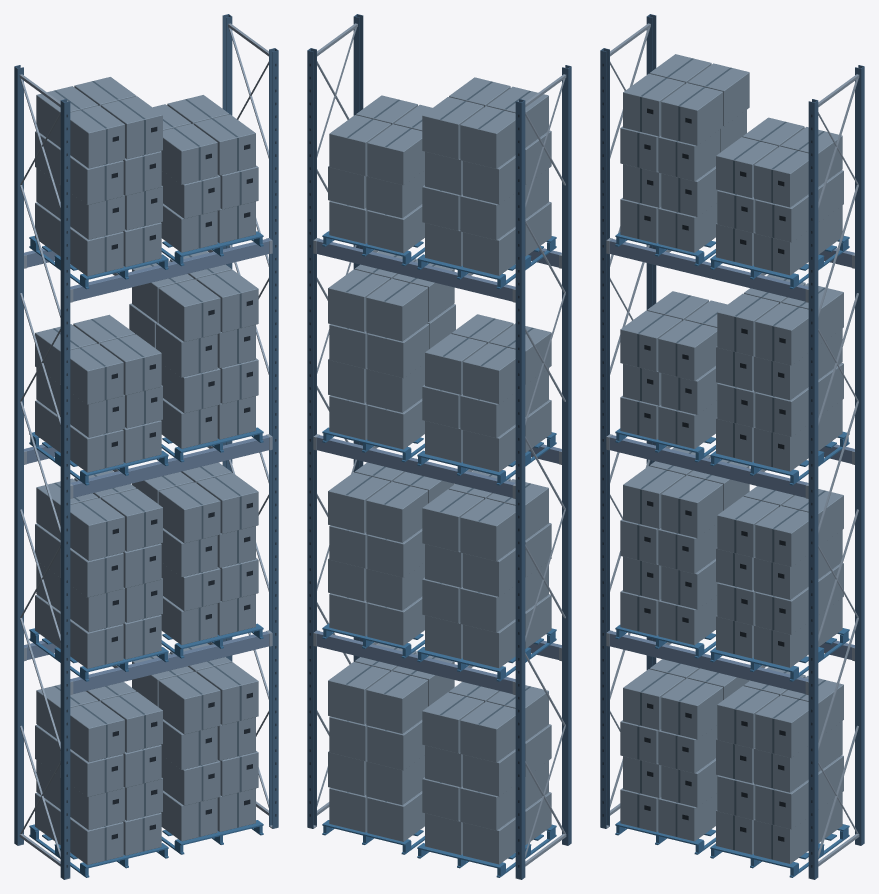
File: SM_GHS_V2Rack_A_W26457.fbx
The picture shows the model from 3 angles, left to right: view 1: azimuth 30°, elevation 25°; view 2: azimuth 150°, elevation 25°; view 3: azimuth 330°, elevation 25°; orthographic projection.
Parts seen in each view (by area): view 1: SM_GHS_V2Rack_A_W26457; view 2: SM_GHS_V2Rack_A_W26457; view 3: SM_GHS_V2Rack_A_W26457.
Boxes of the visible parts, x1,y1,x2,y2 form: SM_GHS_V2Rack_A_W26457: (14,14,278,879); SM_GHS_V2Rack_A_W26457: (307,14,571,879); SM_GHS_V2Rack_A_W26457: (600,14,864,879).
Size of the model in its own units: 265 by 122 by 915.
